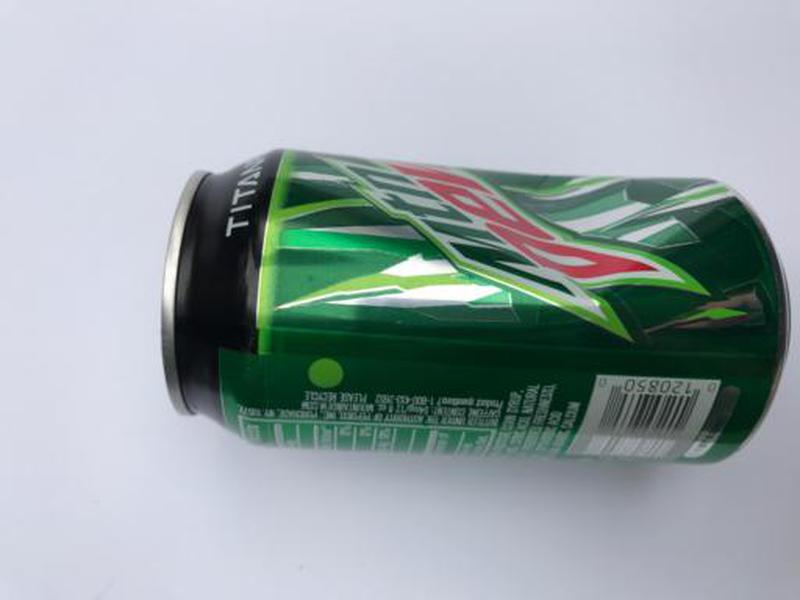can: (157, 143, 794, 471)
